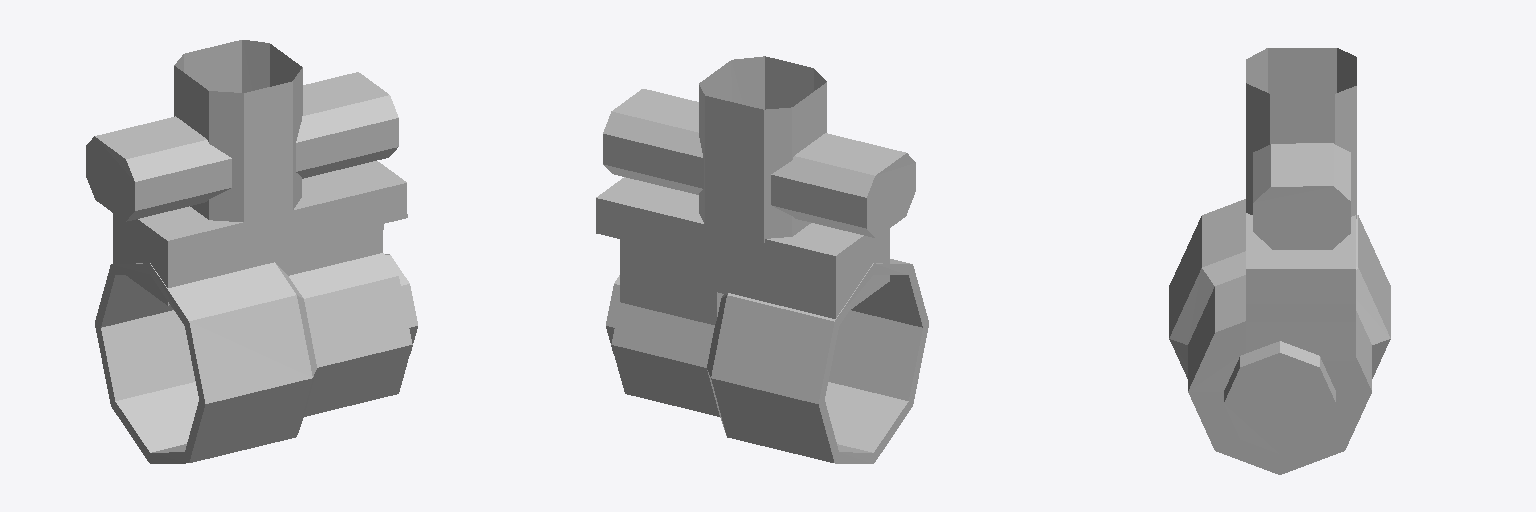
Rendered from r_farm.obj.
3 views of the same model, side by side, from view 1: azimuth 30°, elevation 25°; view 2: azimuth 150°, elevation 25°; view 3: azimuth 270°, elevation 25° (orthographic).
Visible parts, largest first — view 1: drc_r_farm_drc_r_farmMesh; view 2: drc_r_farm_drc_r_farmMesh; view 3: drc_r_farm_drc_r_farmMesh.
Boxes of the visible parts, x1=… form: drc_r_farm_drc_r_farmMesh: x1=86, y1=40, x2=417, y2=463; drc_r_farm_drc_r_farmMesh: x1=596, y1=56, x2=928, y2=463; drc_r_farm_drc_r_farmMesh: x1=1169, y1=48, x2=1390, y2=474.
Bounding box in the file's own units: 0.1299 × 0.1684 × 0.0927.